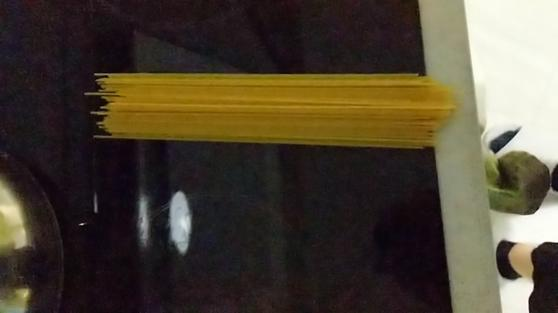spaghetti: (85, 51, 470, 160)
